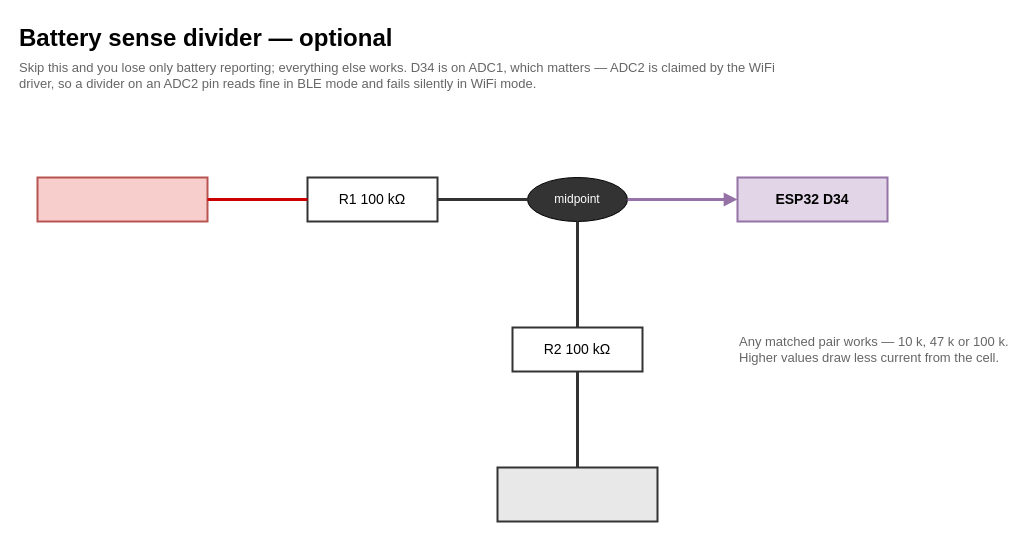
Some shapes in this 1034 by 539 pixel diagram are drawn without their labels. The shapes that lost their labels are listed below. From the top down, each one's centre as x and y in pixels, then its label:
the point at 122,199: TP4056 OUT+
the point at 577,494: MOS Module GND (3-pin header)
